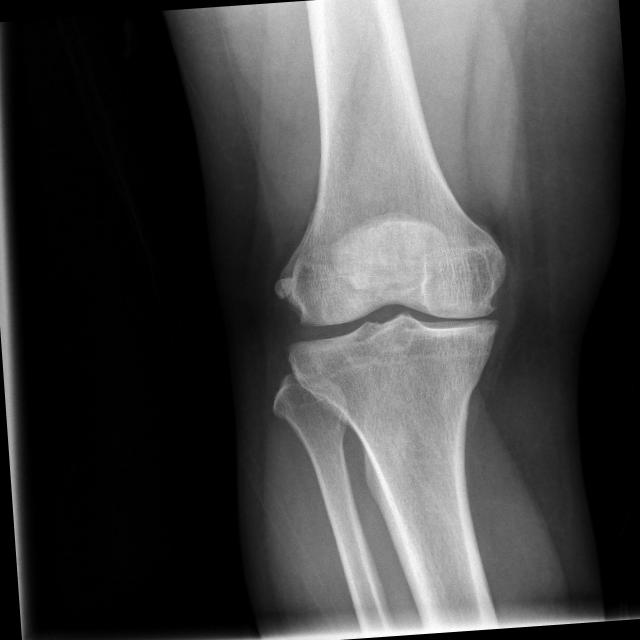Knee: (268, 217, 520, 421)
